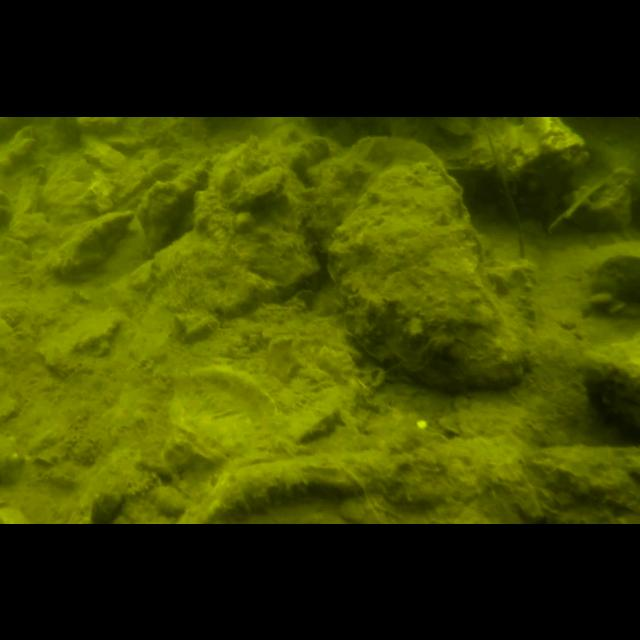Oyster-Closed: (327, 160, 523, 388), (178, 438, 640, 524), (304, 136, 438, 264), (170, 364, 278, 464), (137, 156, 211, 258), (44, 210, 136, 284), (576, 332, 640, 430), (225, 164, 289, 210)
Oyster-Open: (472, 116, 588, 176), (386, 116, 492, 170)
